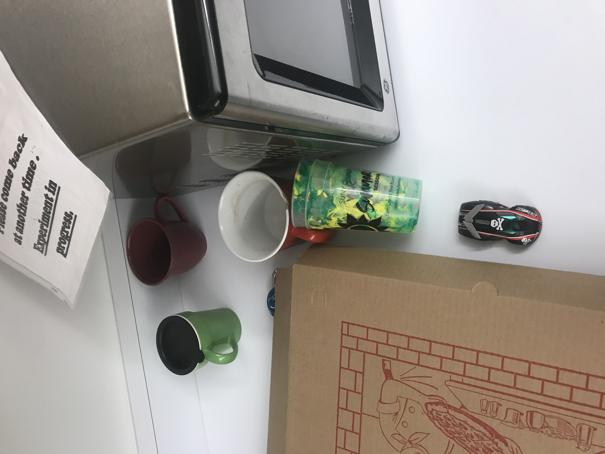Skull: (458, 200, 543, 248)
